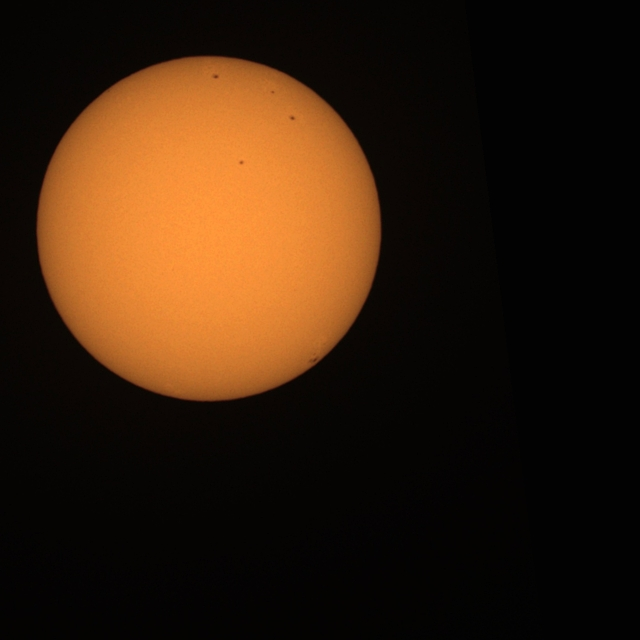sunspot: (308, 353, 321, 366), (288, 114, 296, 121), (212, 73, 219, 80), (238, 159, 245, 166), (270, 89, 275, 94)
